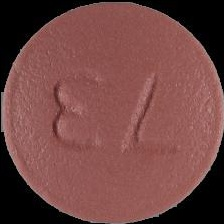63187-707: (0, 0, 224, 224)
